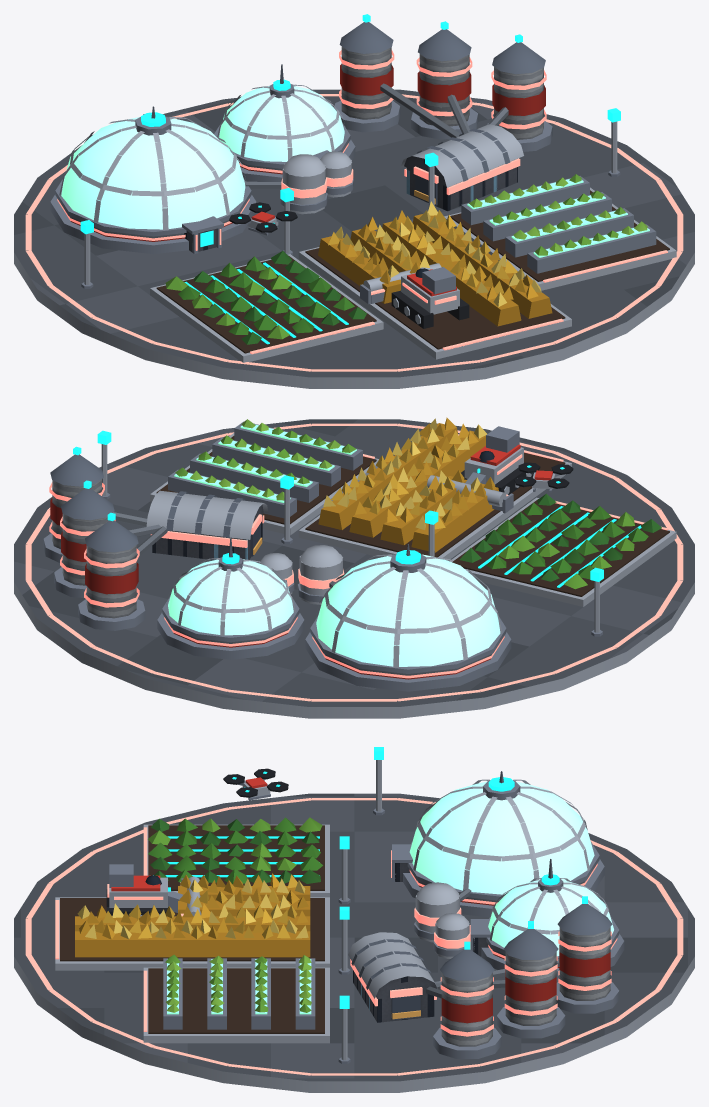
File: farm_scifi_red.glb
3 views of the same model, one above another, from view 1: azimuth 30°, elevation 25°; view 2: azimuth 150°, elevation 25°; view 3: azimuth 270°, elevation 25° (orthographic).
Visible parts, largest first — view 1: farm_scifi_red; view 2: farm_scifi_red; view 3: farm_scifi_red.
Boxes of the visible parts, x1,y1,x2,y2 form: farm_scifi_red: (14, 14, 694, 388); farm_scifi_red: (14, 417, 694, 718); farm_scifi_red: (14, 747, 694, 1092).
Size of the model in its own units: 1.39 by 0.26 by 1.39.
Materials: 5 (1 with a texture image).
